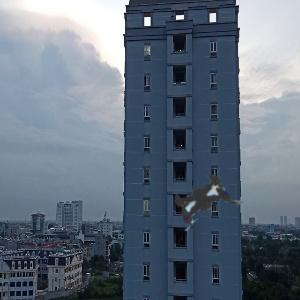drone: (133, 134, 267, 268)
